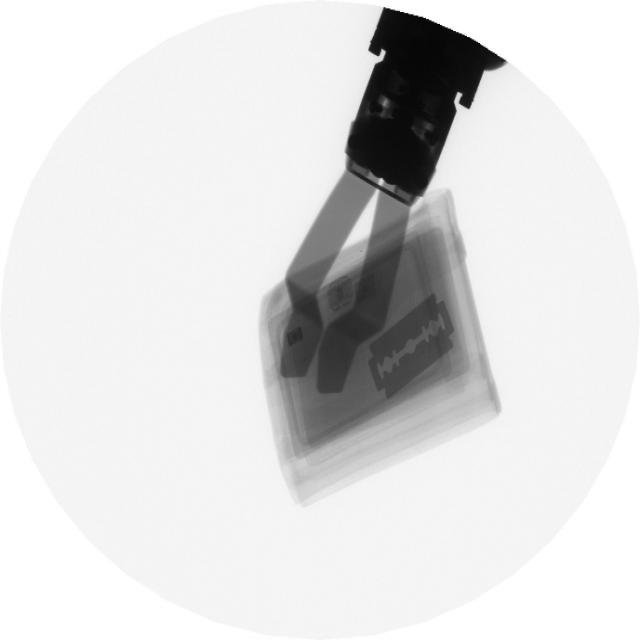BLADE: (366, 287, 458, 404)
